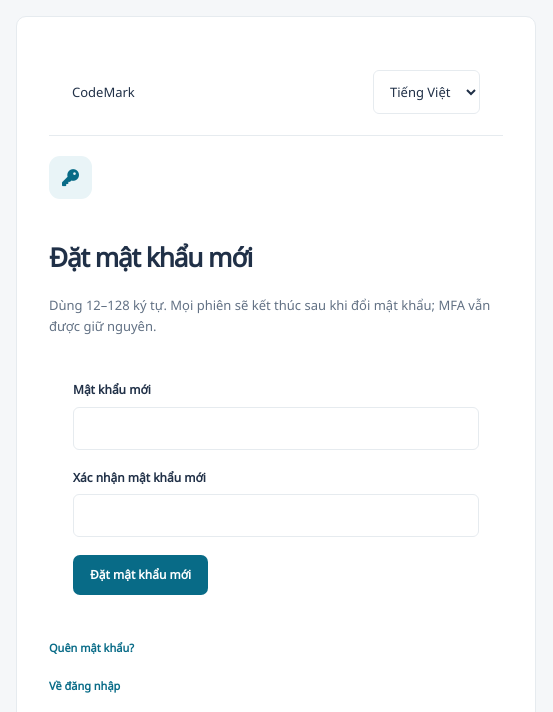
Test: Self-service workflows in a simulated DOM; no browser or network › removes the fragment immediately, validates confirmation, submits the token only in the body
In the password field labelled "Mật khẩu mới": (276, 428) [73,407,479,450], type "A new fixture password!"
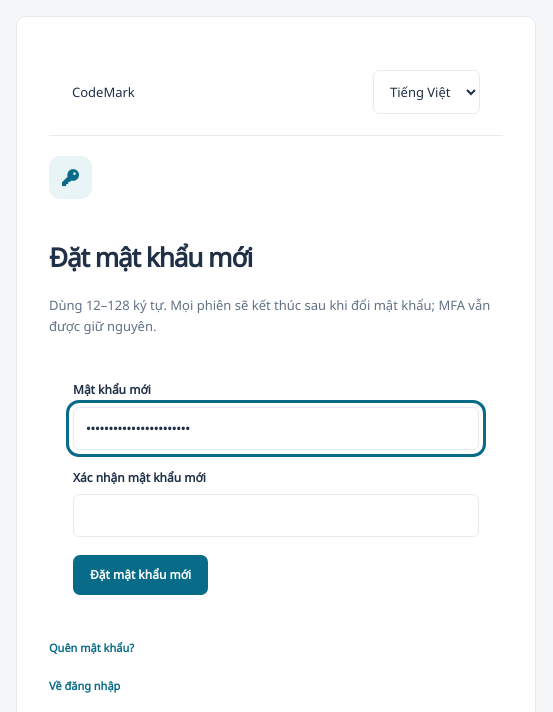
In the password field labelled "Xác nhận mật khẩu mới": (276, 516) [73,494,479,537], type "Different fixture password!"
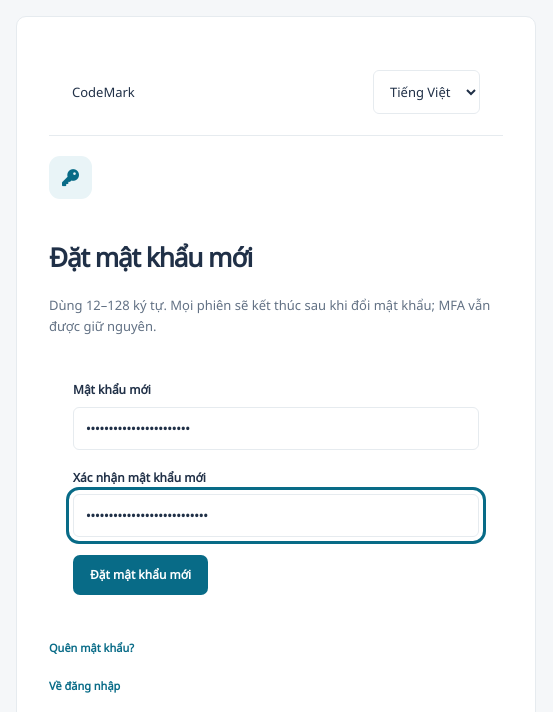
Click the button "Đặt mật khẩu mới": (141, 575) [73,555,208,595]
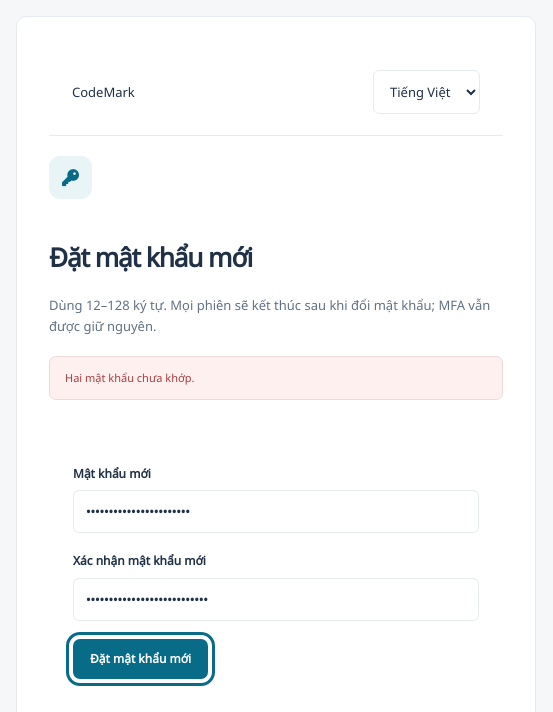
Expected: the message shows "chưa khớp", [65,370,194,385]
In the password field labelled "Xác nhận mật khẩu mới": (276, 599) [73,578,479,621], type "A new fixture password!"
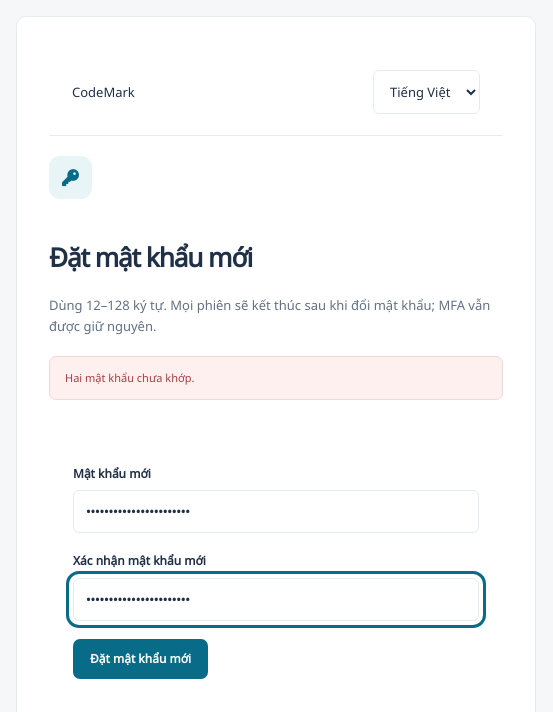
Click the button "Đặt mật khẩu mới": (141, 659) [73,639,208,679]
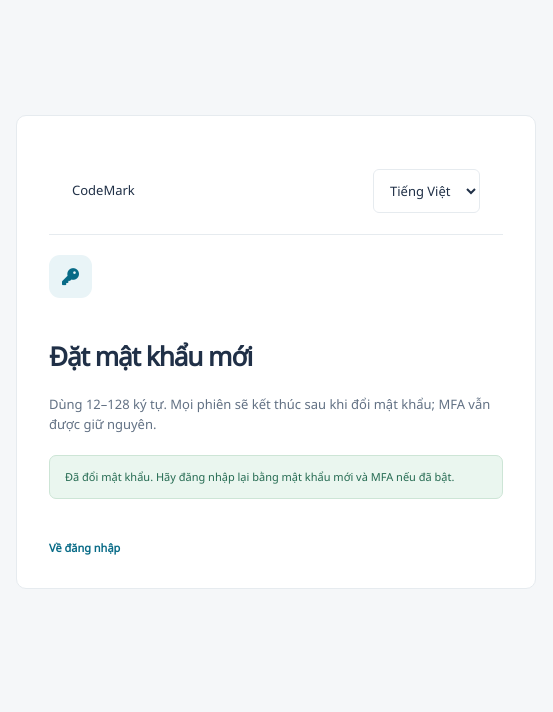
Expected: the text "Đã đổi mật khẩu. Hãy đăng nhập lại bằng mật khẩu mới và MFA nếu đã bật." is shown, [49,455,503,499]
